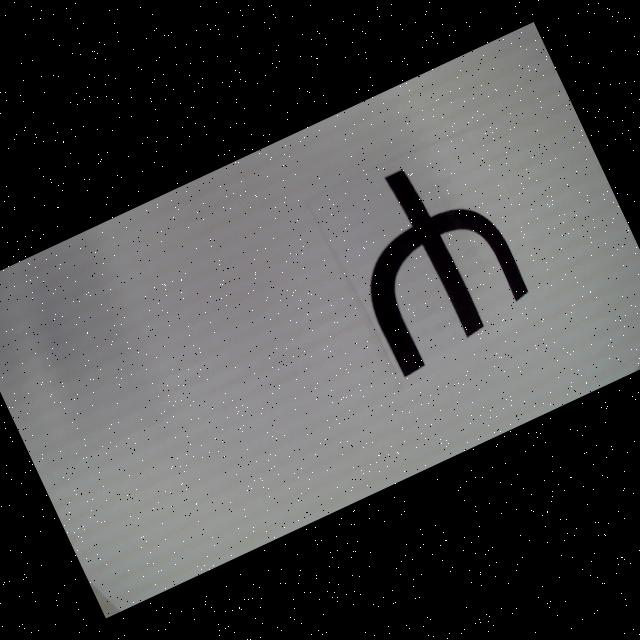PSI: (322, 140, 540, 378)
